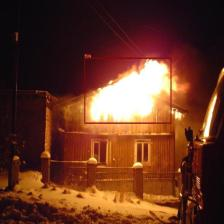fire: (84, 58, 171, 124)
